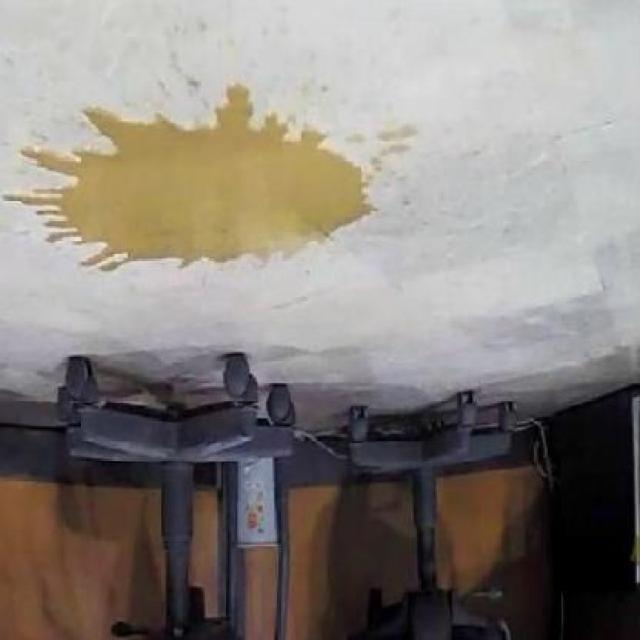spillage: (23, 88, 376, 270)
